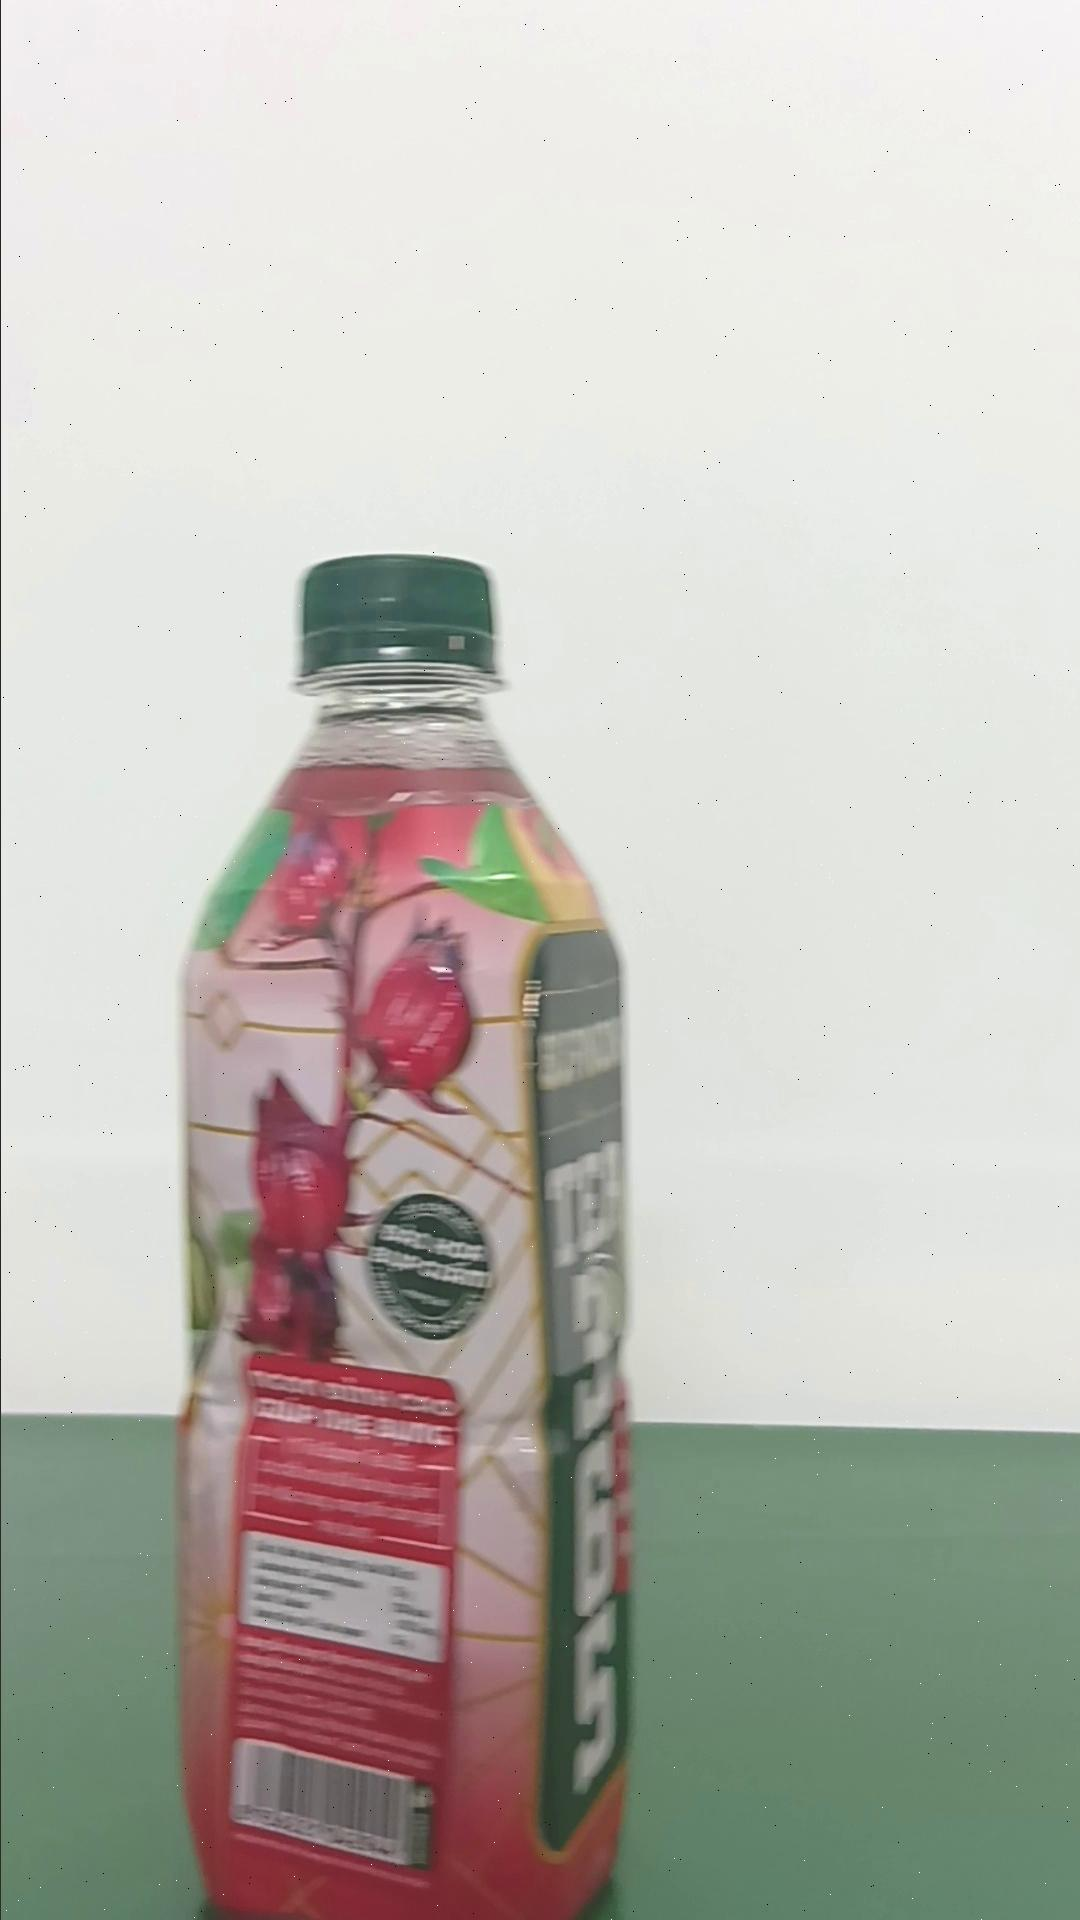loi meo sp: (171, 549, 640, 1915)
